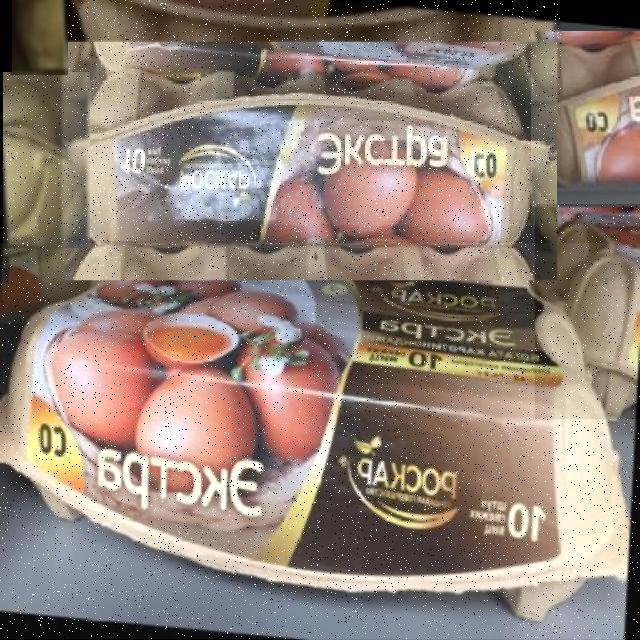Eggs: (0, 243, 640, 639), (65, 42, 557, 280), (44, 0, 561, 108), (535, 204, 640, 419), (531, 31, 640, 207), (4, 72, 92, 248), (12, 0, 68, 75)
